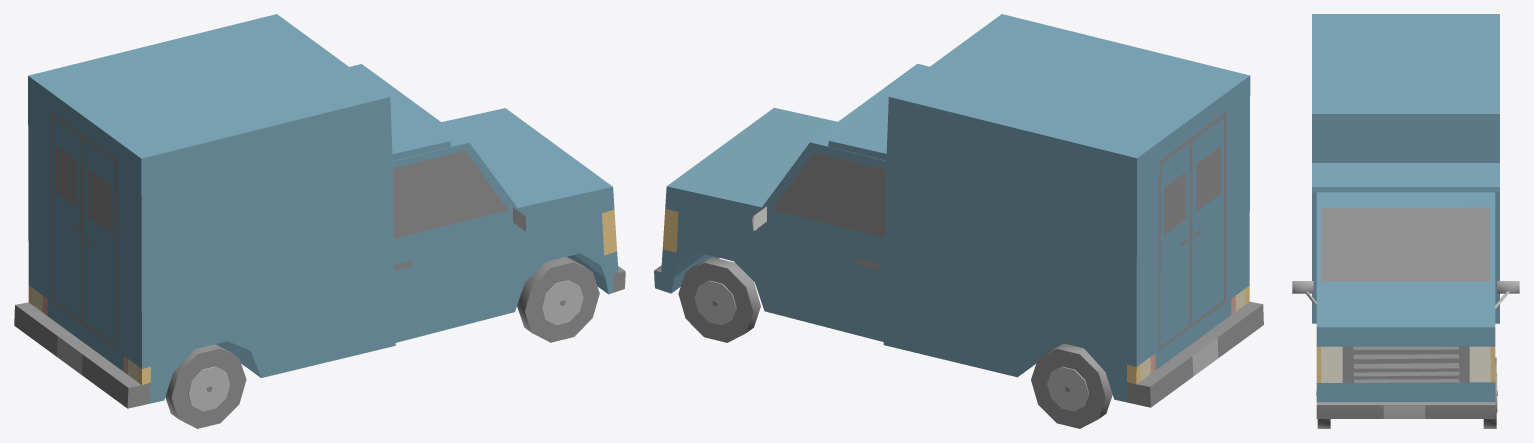
File: truck6.fbx
3 renders of one model, left to right at view 1: azimuth 30°, elevation 25°; view 2: azimuth 150°, elevation 25°; view 3: azimuth 270°, elevation 25°, orthographic. The views are drawn at different scales.
Parts seen in each view (by area): view 1: Extrude, Cylinder_6, Cylinder_9; view 2: Extrude, Cylinder_7, Cylinder_8; view 3: Extrude, Cylinder_7.
Boxes of the visible parts, left/top/right/bottom form: Extrude: left=14, top=14, right=625, bottom=408; Cylinder_6: left=517, top=257, right=599, bottom=342; Cylinder_9: left=165, top=344, right=246, bottom=428; Extrude: left=654, top=14, right=1263, bottom=407; Cylinder_7: left=678, top=257, right=760, bottom=342; Cylinder_8: left=1031, top=343, right=1112, bottom=428; Extrude: left=1292, top=14, right=1519, bottom=418; Cylinder_7: left=1483, top=357, right=1497, bottom=428.
Bounding box in the file's own units: 510 × 281 × 242.
